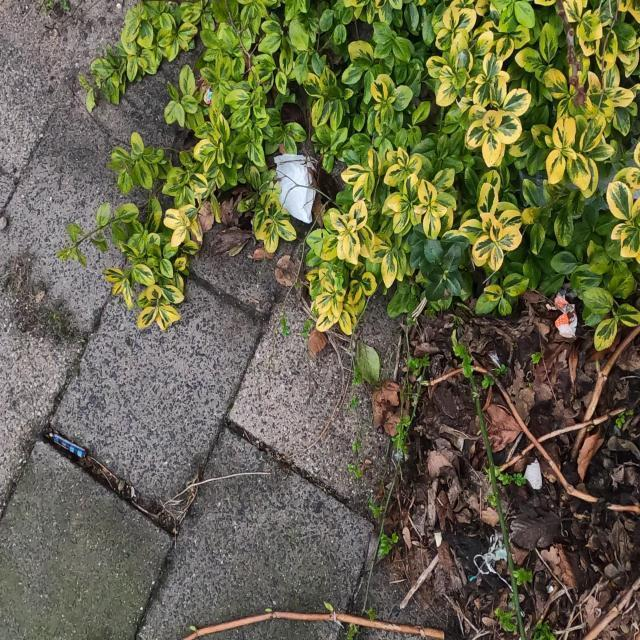Paper: (272, 152, 322, 226)
Plastic: (553, 290, 579, 339)
